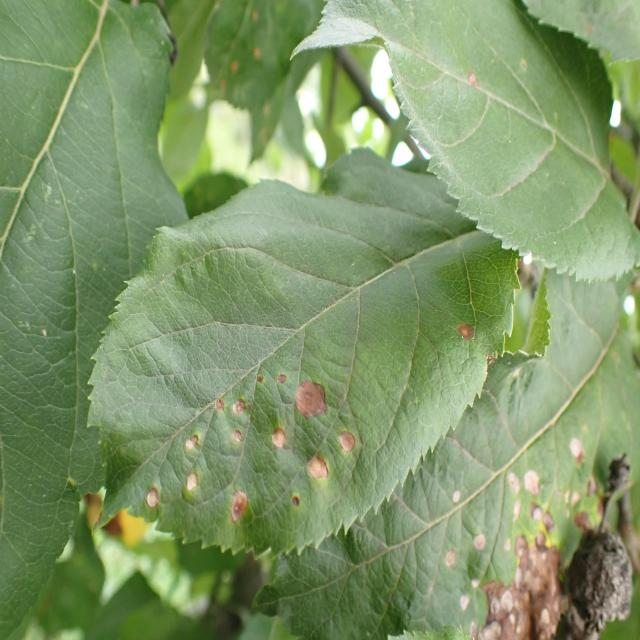Black Rot: (421, 440, 606, 640), (289, 358, 333, 429), (452, 313, 488, 362), (220, 486, 253, 534), (306, 440, 334, 495), (335, 426, 365, 460), (182, 466, 204, 512), (230, 423, 254, 465), (464, 60, 484, 105), (270, 361, 294, 398), (139, 482, 165, 511), (271, 423, 291, 456), (210, 393, 232, 422), (184, 421, 200, 460), (285, 494, 313, 516), (231, 398, 253, 419), (251, 368, 268, 394)
